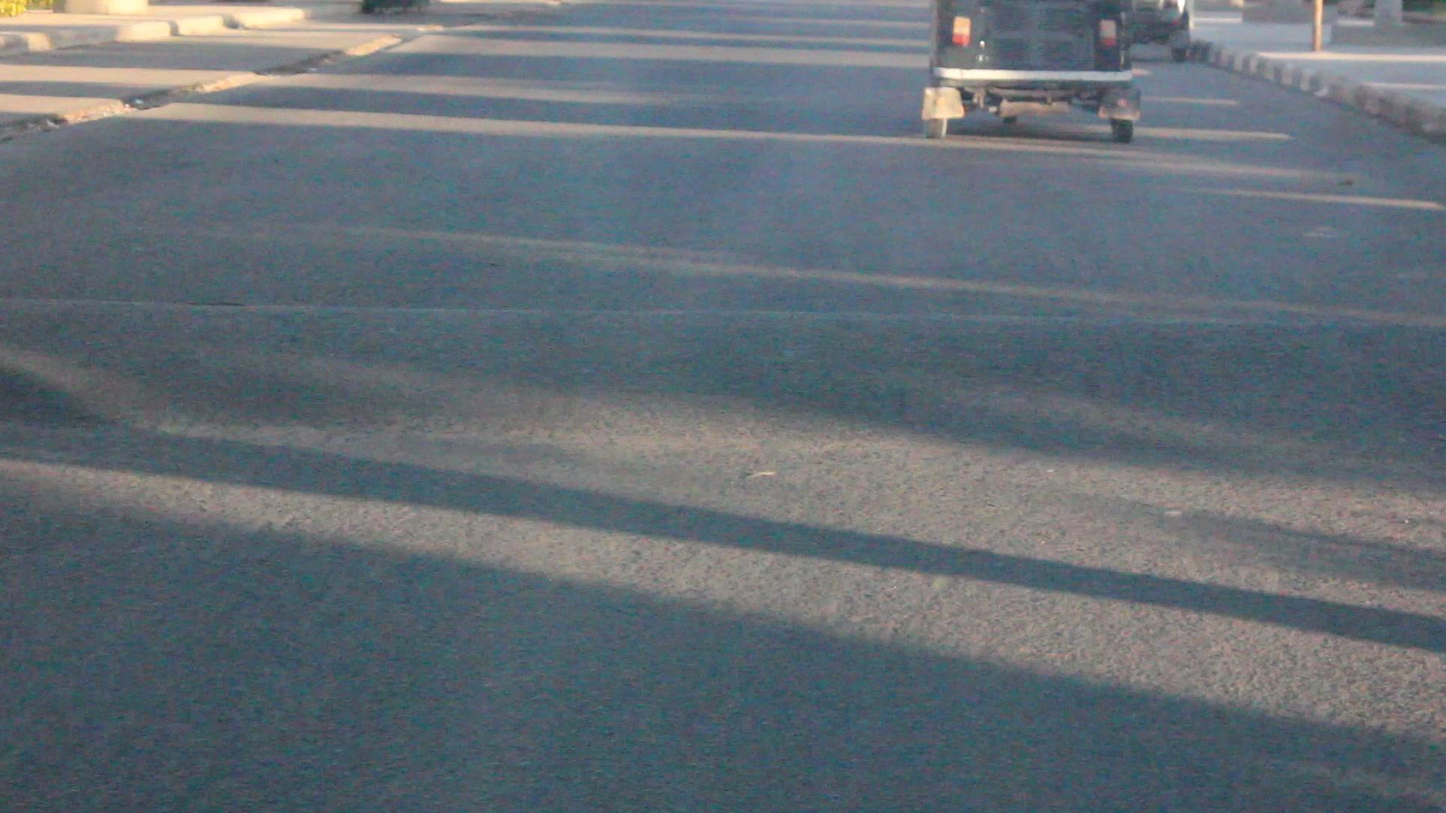Bump: (0, 297, 1446, 474)
